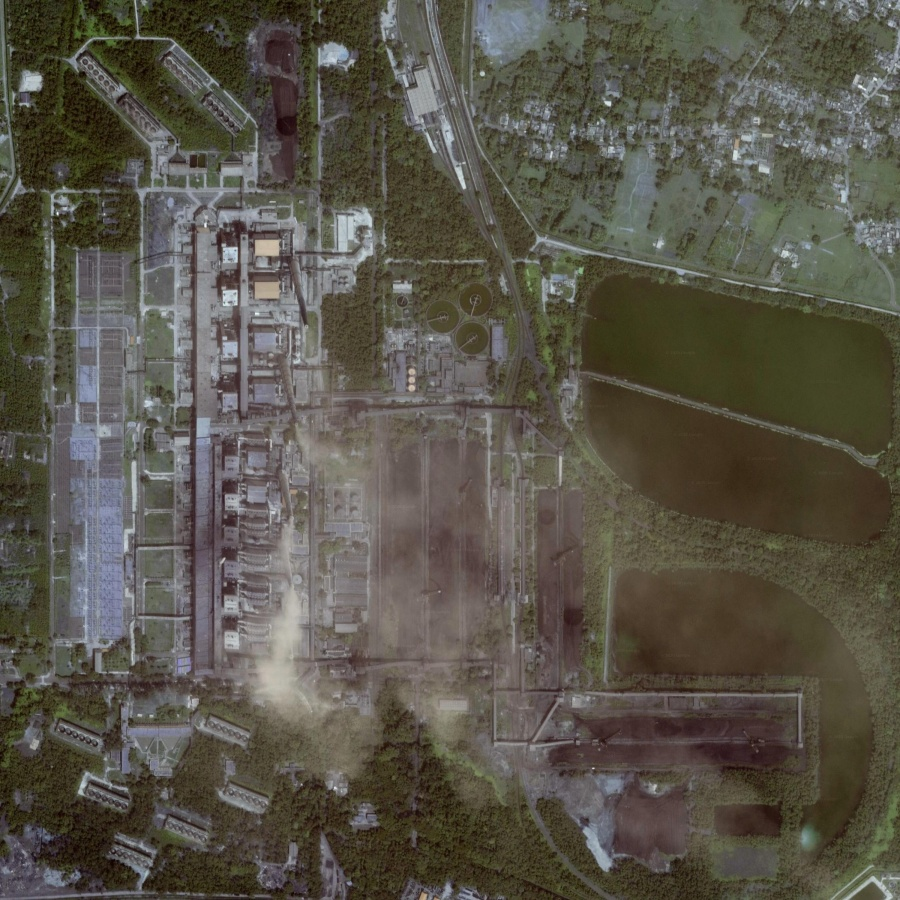PowerPlant: (265, 408, 596, 729), (529, 691, 813, 877)
